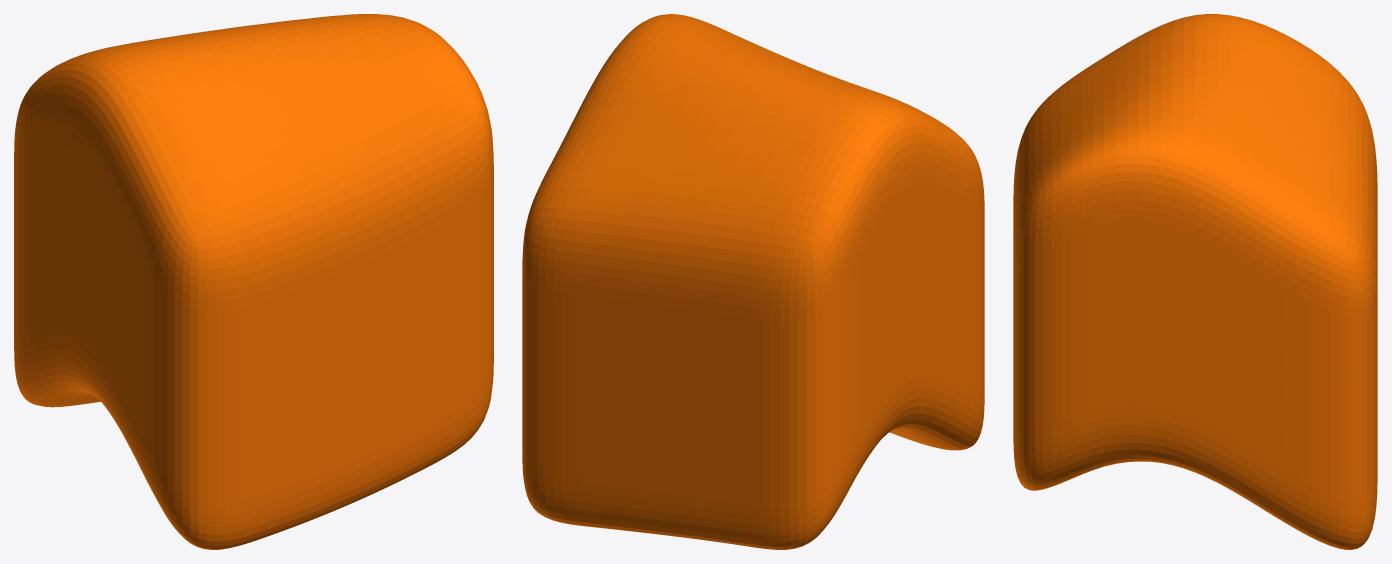
3 renders of one model, left to right at view 1: azimuth 30°, elevation 25°; view 2: azimuth 150°, elevation 25°; view 3: azimuth 270°, elevation 25°, orthographic. The views are drawn at different scales.
Visible parts, largest first — view 1: smooth_1_base.036; view 2: smooth_1_base.036; view 3: smooth_1_base.036.
Boxes of the visible parts, bbox=[...] form: smooth_1_base.036: bbox=[14, 14, 493, 549]; smooth_1_base.036: bbox=[522, 14, 984, 549]; smooth_1_base.036: bbox=[1013, 14, 1377, 549].
Bounding box in the file's own units: 60 × 75.51 × 60.
